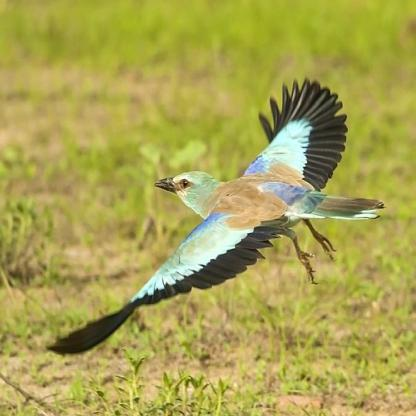Burung: (47, 80, 384, 360)
